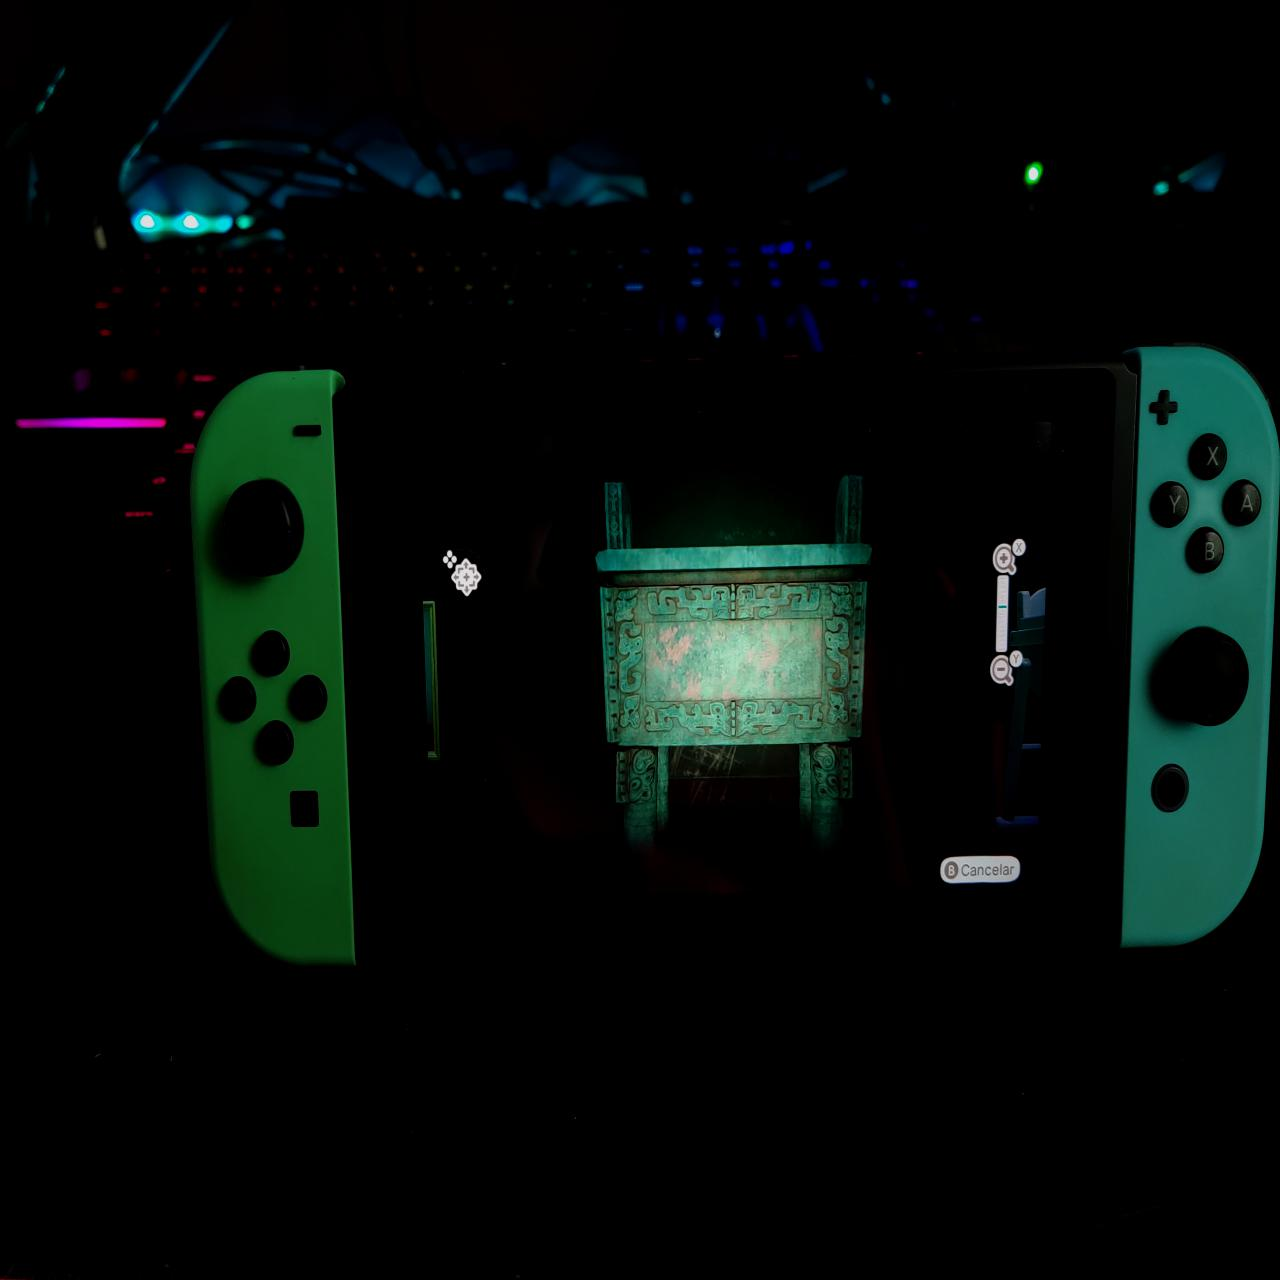HoumuwuDing: (588, 468, 885, 874)
